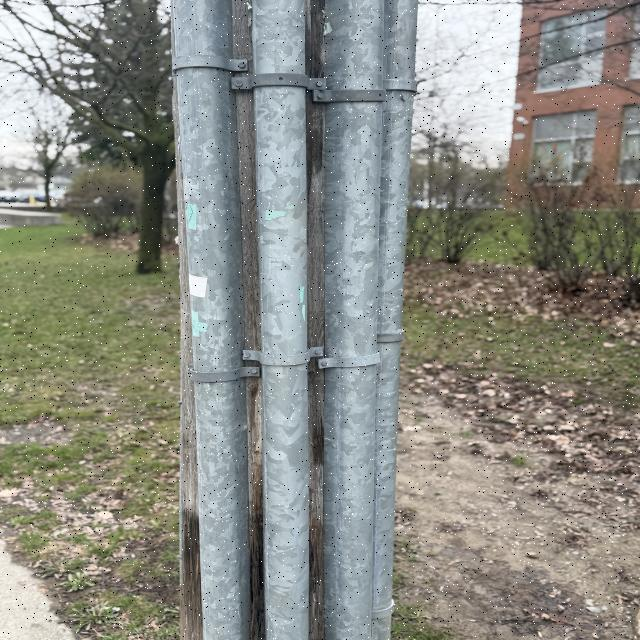Electrical Pole: (155, 0, 431, 638)
